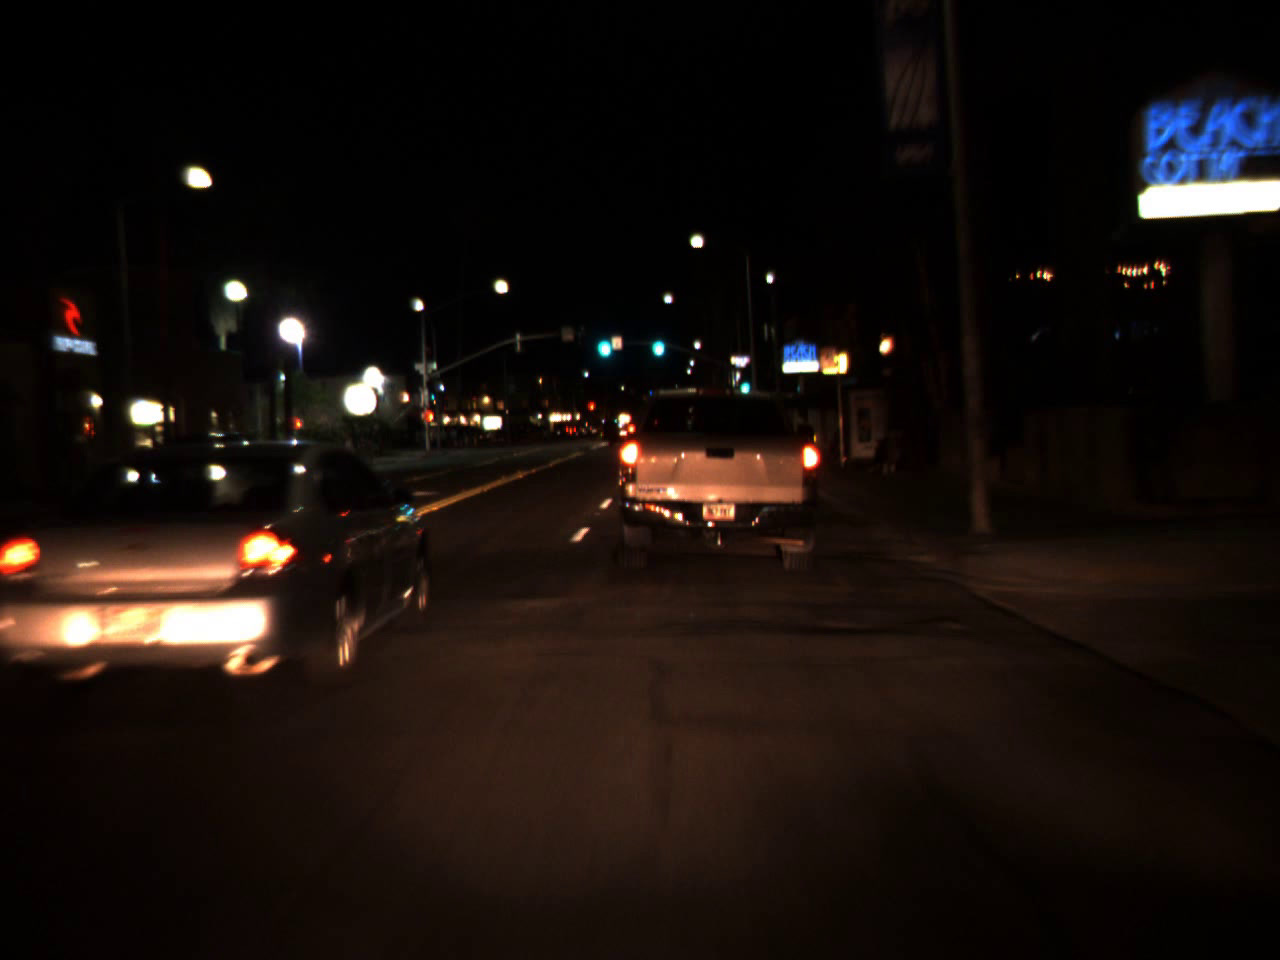go: (593, 321, 612, 363), (647, 322, 666, 361), (738, 375, 750, 393)
